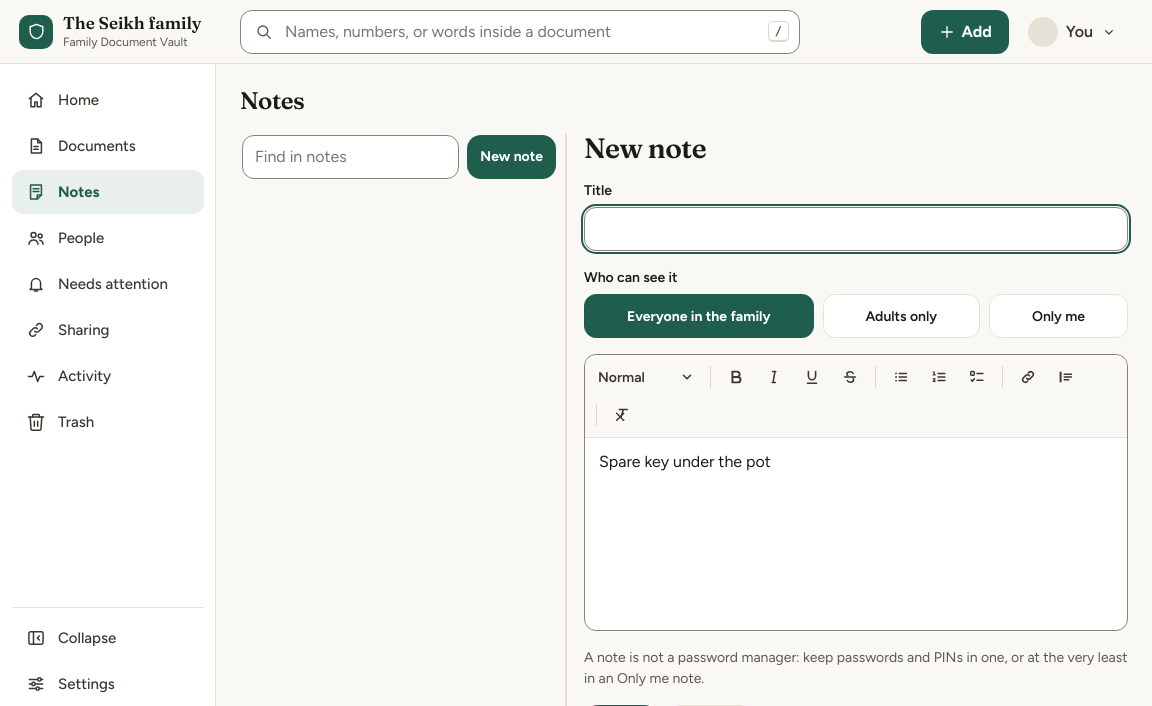
Test: the notes, listed beside the one open (1280) › the guard’s entry never outlives the page (the N1 re-check) › a note made: Back goes to where New note was opened from, never an empty New note
Clear the field named "Note" at (685, 462), box [599,452,771,471]
(page scrolled)
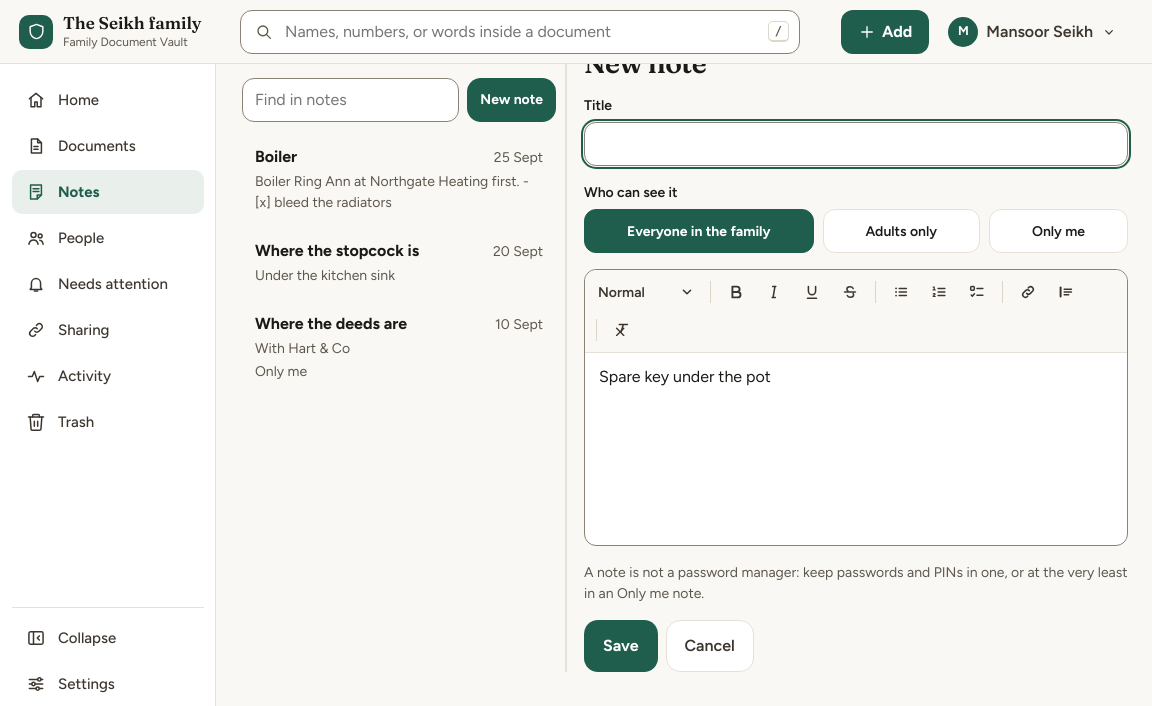
Click the button "Save".
click(621, 646)  # box [584,620,658,672]
(page scrolled)
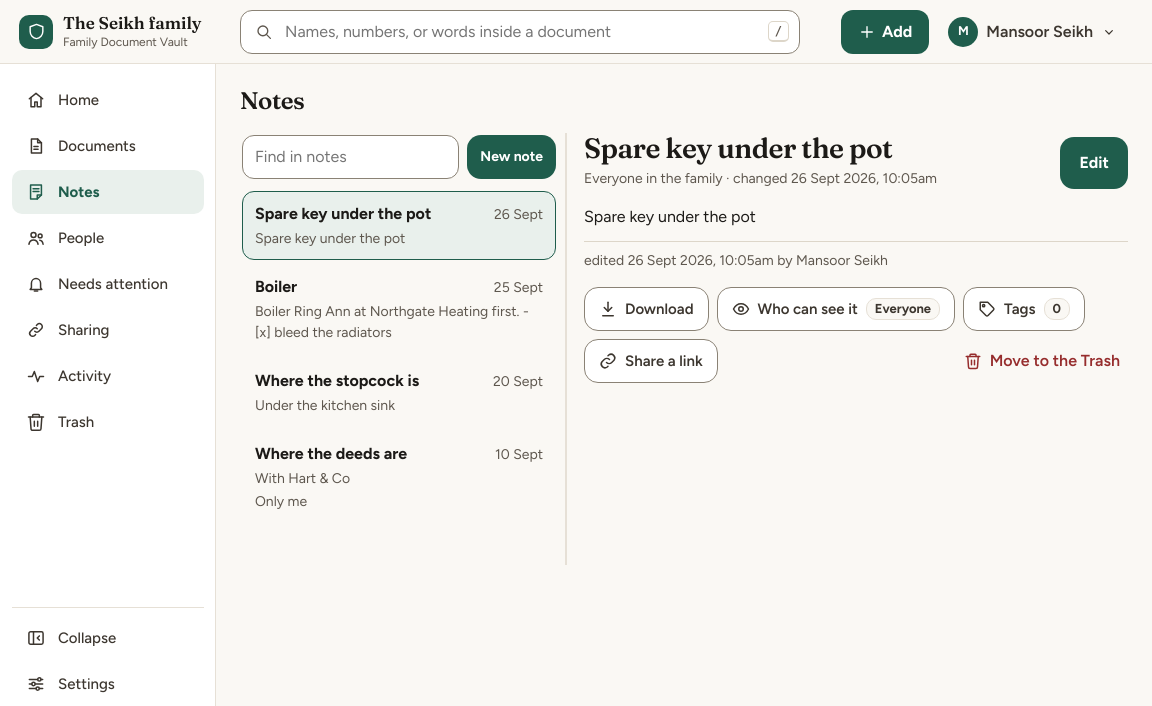
Expected: the element "Spare key under the pot" is shown, [572,133,1128,395]
